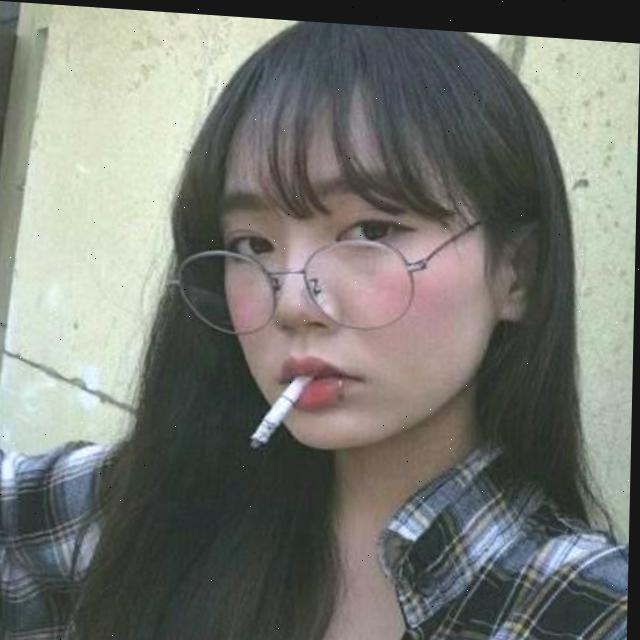cigarette: (251, 369, 317, 448)
